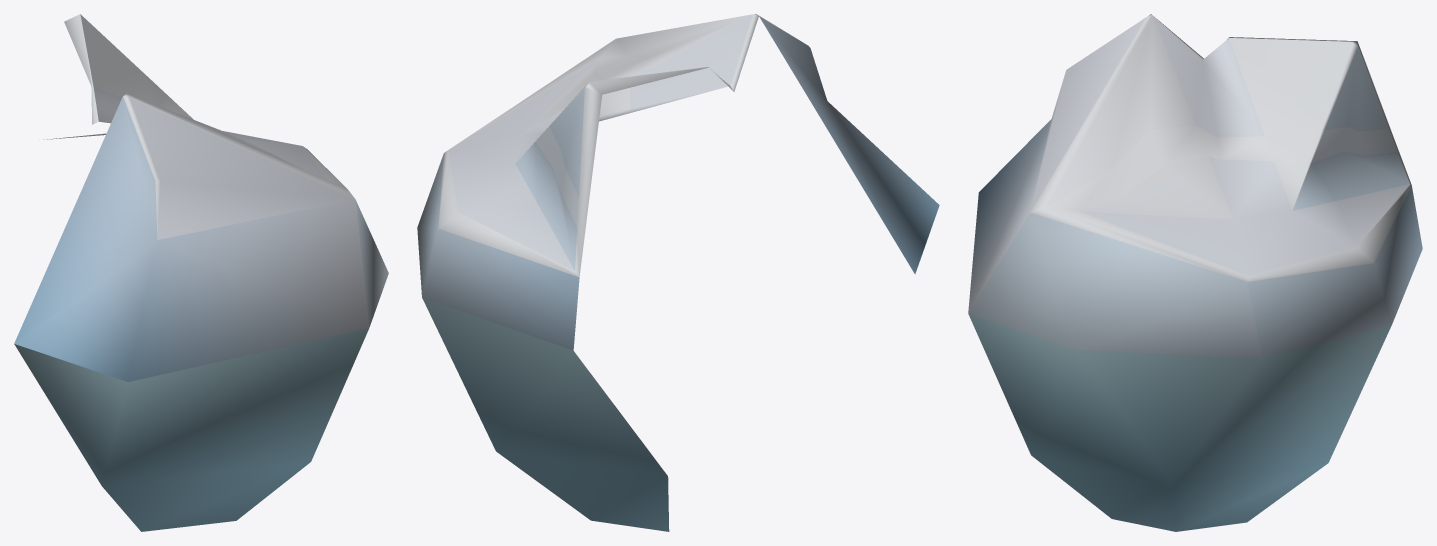
The model's file is herbertBaseIceB.glb.
3 renders of one model, left to right at view 1: azimuth 30°, elevation 25°; view 2: azimuth 150°, elevation 25°; view 3: azimuth 270°, elevation 25°, orthographic. The views are drawn at different scales.
Parts seen in each view (by area): view 1: herbertBaseIceB; view 2: herbertBaseIceB; view 3: herbertBaseIceB.
Boxes of the visible parts, left/top/right/bottom form: herbertBaseIceB: left=14, top=14, right=388, bottom=531; herbertBaseIceB: left=417, top=14, right=939, bottom=531; herbertBaseIceB: left=968, top=14, right=1422, bottom=531.
Bounding box in the file's own units: 1.8 × 2.03 × 1.82.
